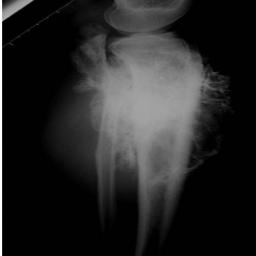cancer: (87, 33, 227, 239)
